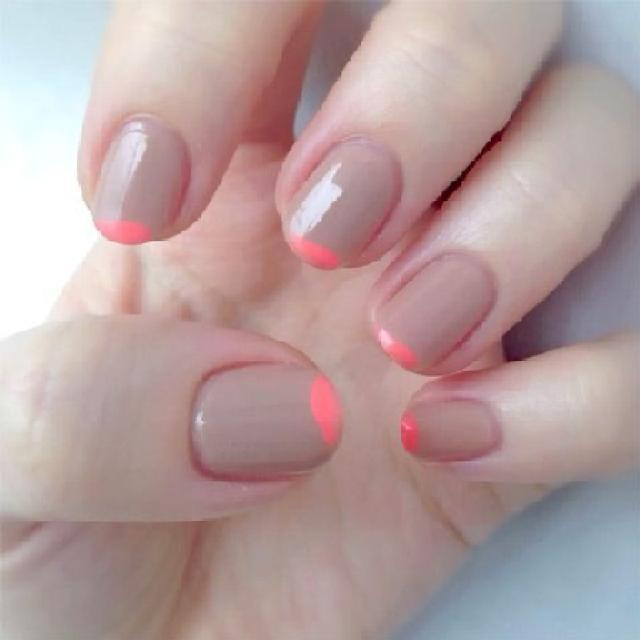Nail: (191, 364, 342, 479), (282, 138, 401, 268), (376, 252, 495, 372), (91, 114, 190, 244), (400, 399, 500, 461)
